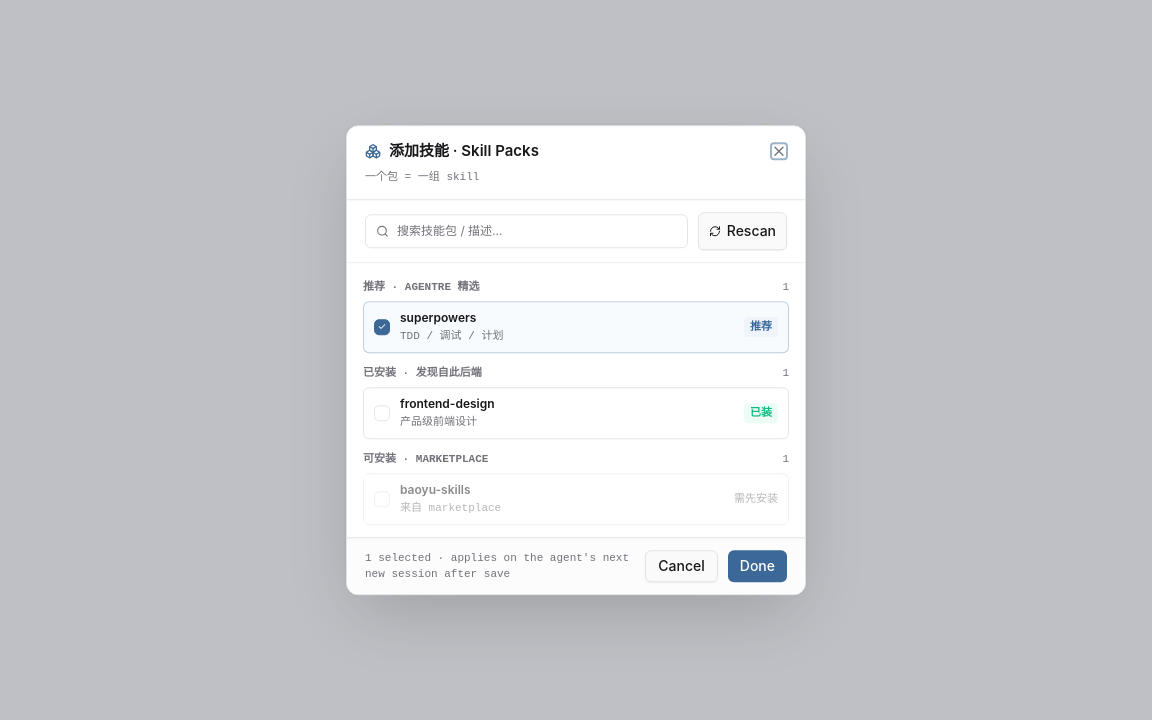
Test: CapabilityPicker › filters by name/description via the search box
The image size is (1152, 720).
Step 1. Type "front" into the field with placeholder "搜索技能包 / 描述…" → (537, 231), box [397, 223, 677, 239]
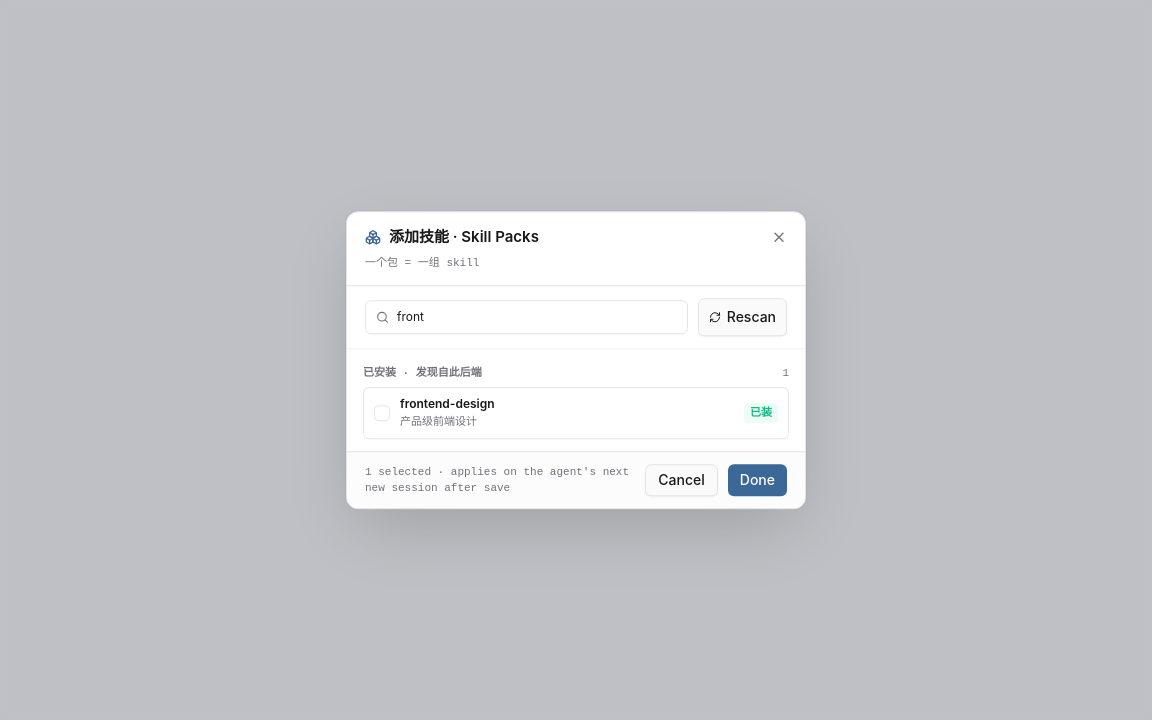
Expected: the text "frontend-design" is shown, [400, 396, 495, 411]
Expected: the checkbox "superpowers" is gone
